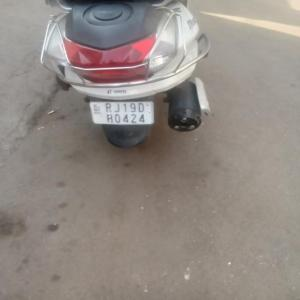Plate: (91, 102, 152, 123)
